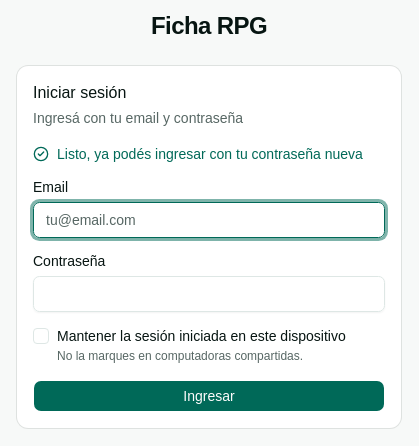
it: LoginPage: notice from another page › shows the message it was sent with, until a login error replaces it
Expected: the message reads "Listo, ya podés ingresar con tu contraseña nueva", [57,146,363,162]
In the field labelled "Email": (209, 220) [33,202,385,238], type "ana@example.com"
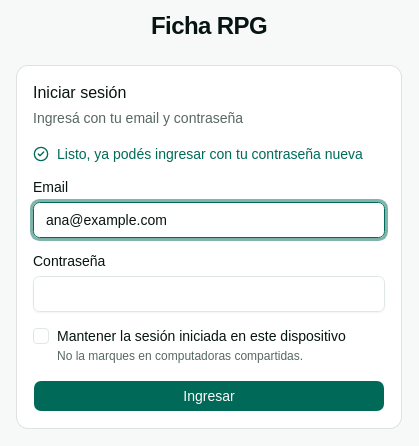
In the password field labelled "Contraseña": (209, 294) [33,276,385,312], type "secreta-123"
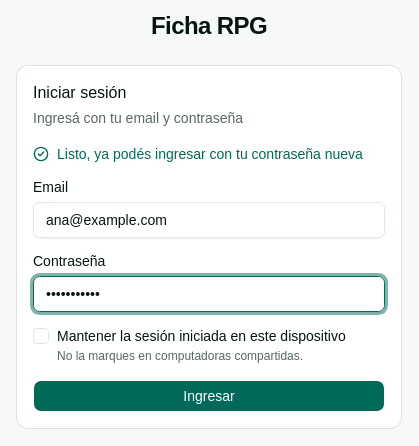
Click the button "Ingresar": click(209, 396) [33,380,385,412]
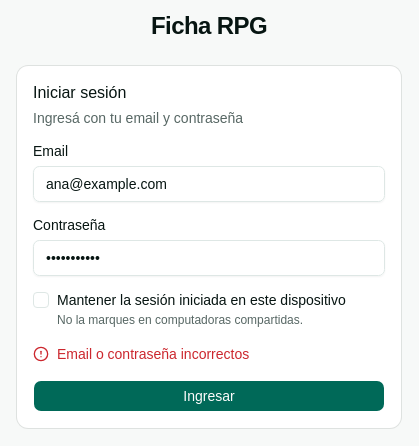
Result: the text "Email o contraseña incorrectos" is shown at [33,346,249,362]
Result: the message "Listo, ya podés ingresar con tu contraseña nueva" is gone
